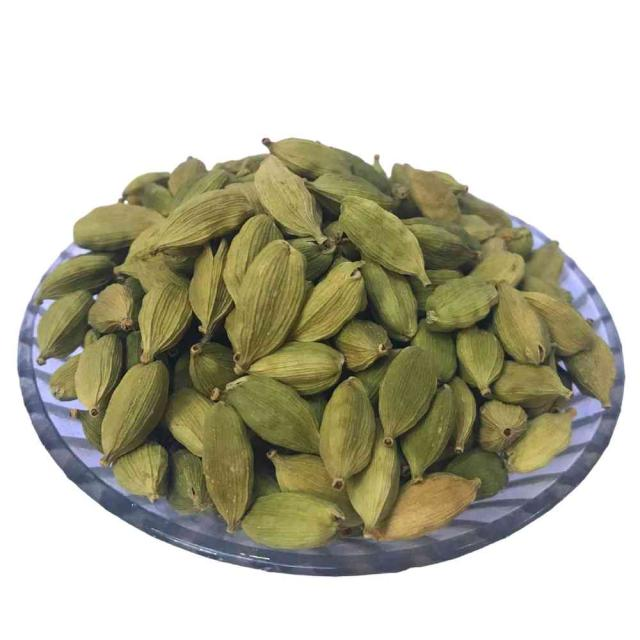Cardamom: (40, 125, 627, 549)
